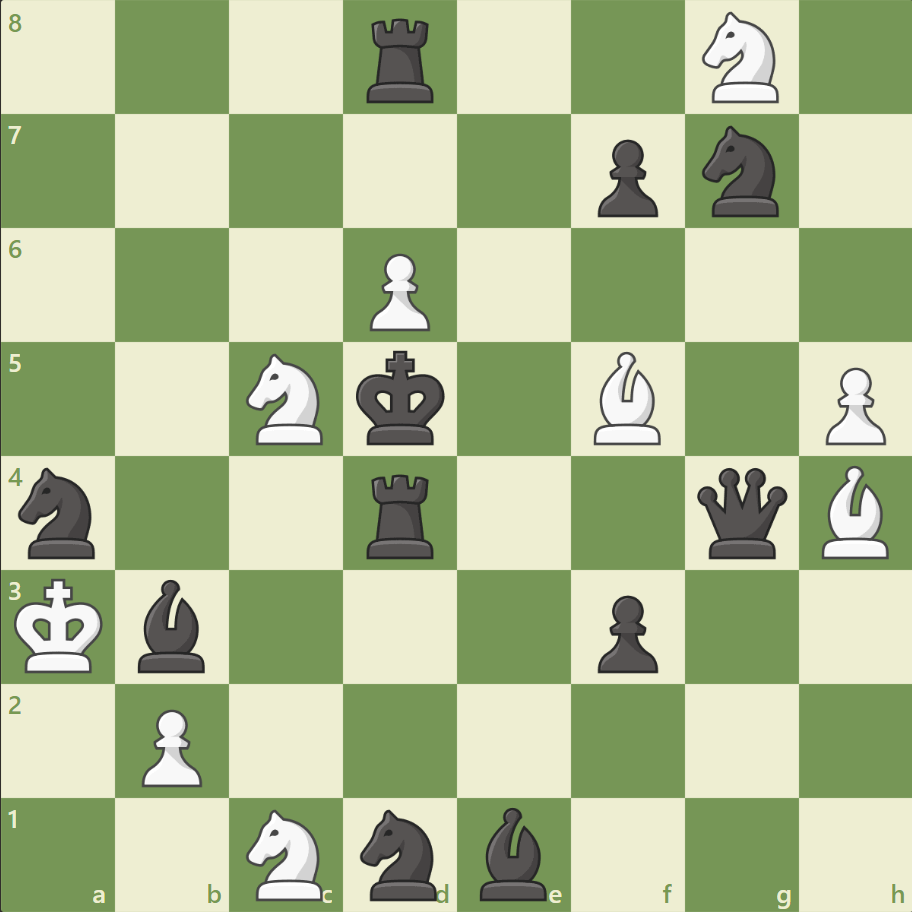B: (812, 460, 896, 563), (585, 347, 669, 449)
K: (11, 571, 111, 679)
N: (692, 7, 789, 110), (238, 348, 335, 450), (238, 802, 335, 904)
P: (133, 700, 208, 791), (361, 246, 435, 337), (815, 359, 889, 450)
b: (471, 801, 555, 904), (131, 574, 215, 676)
k: (351, 344, 451, 452)
n: (351, 802, 449, 904), (11, 461, 108, 564), (692, 121, 789, 223)
p: (588, 132, 662, 223), (588, 586, 662, 677)
q: (691, 463, 790, 562)
r: (360, 12, 442, 109), (360, 466, 442, 563)
